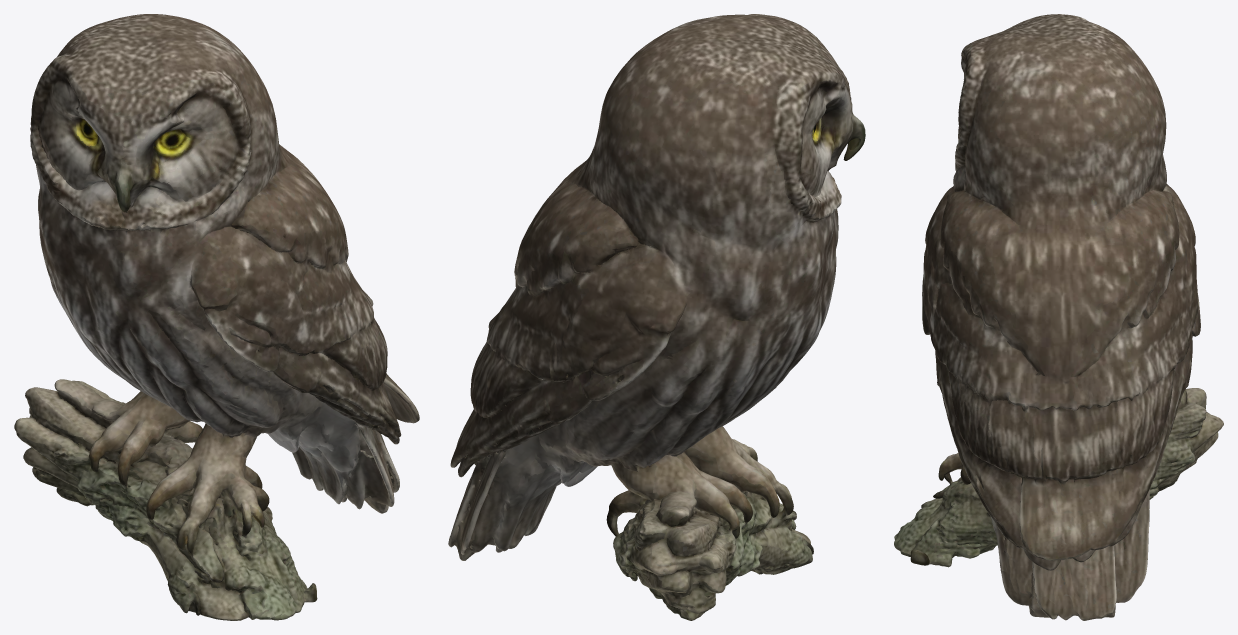
The model's file is boreal-owl-v21.glb.
3 renders of one model, left to right at view 1: azimuth 30°, elevation 25°; view 2: azimuth 150°, elevation 25°; view 3: azimuth 270°, elevation 25°, orthographic. The views are drawn at different scales.
Parts seen in each view (by area): view 1: world; view 2: world; view 3: world.
Boxes of the visible parts, x1,y1,x2,y2 form: world: [14, 14, 419, 620]; world: [448, 14, 865, 620]; world: [894, 14, 1223, 620].
Size of the model in its own units: 0.2892 by 0.4199 by 0.2565.
1 material, 1 textured.
